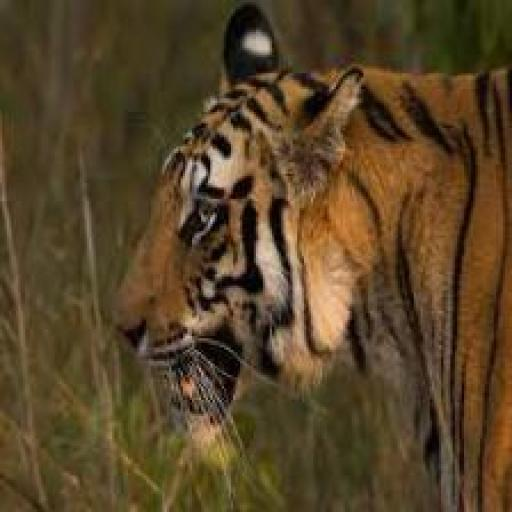Tiger: (91, 71, 512, 510)
